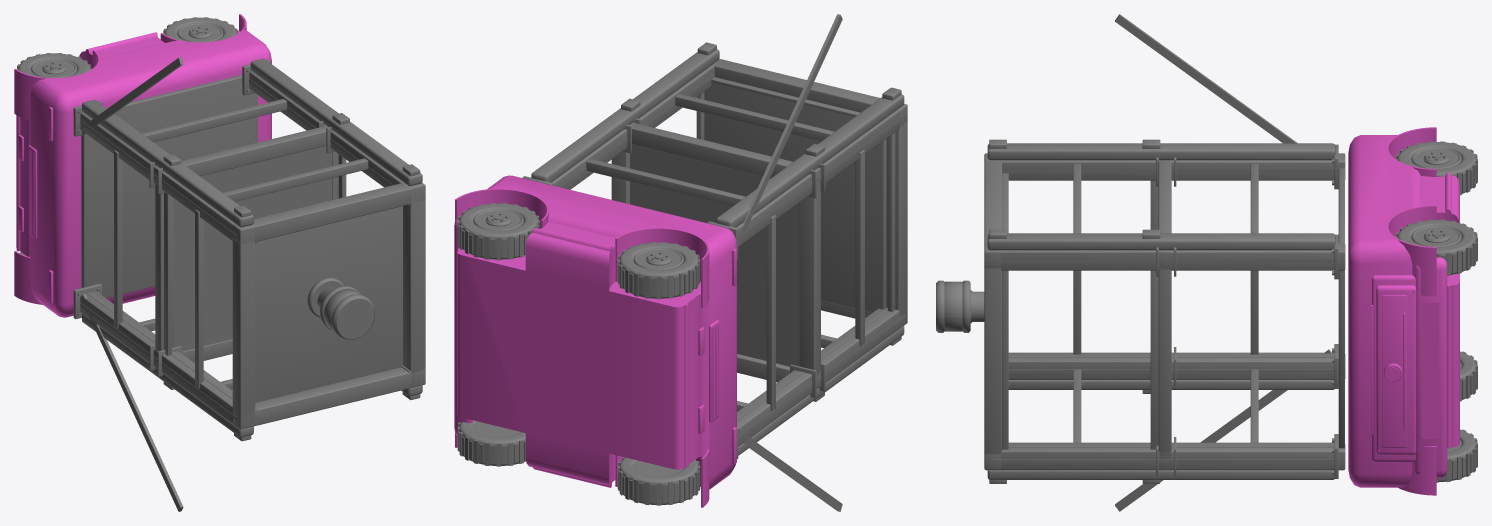
The picture shows the model from 3 angles, left to right: view 1: azimuth 30°, elevation 25°; view 2: azimuth 150°, elevation 25°; view 3: azimuth 270°, elevation 25°; orthographic projection. The views are drawn at different scales.
Visible parts, largest first — view 1: AX_2_Shelf, AX_2_Body, AX_2_Top_lidar, AX_2_Tire_02, AX_2_Tire_04; view 2: AX_2_Shelf, AX_2_Body, AX_2_Tire_04, AX_2_Tire_02, AX_2_Tire_03, AX_2_Tire_01; view 3: AX_2_Shelf, AX_2_Body, AX_2_Tire_02, AX_2_Tire_04, AX_2_Top_lidar, AX_2_Tire_01, AX_2_Tire_03.
Part boxes in pixels (x1,y1,x2,y2): AX_2_Shelf: [73, 57, 425, 511]; AX_2_Body: [14, 14, 271, 317]; AX_2_Top_lidar: [307, 277, 375, 340]; AX_2_Tire_02: [163, 17, 237, 42]; AX_2_Tire_04: [17, 53, 91, 77]; AX_2_Shelf: [522, 14, 907, 511]; AX_2_Body: [454, 175, 736, 507]; AX_2_Tire_04: [617, 242, 700, 299]; AX_2_Tire_02: [457, 203, 539, 260]; AX_2_Tire_03: [617, 457, 700, 505]; AX_2_Tire_01: [457, 420, 525, 466]; AX_2_Shelf: [984, 14, 1345, 511]; AX_2_Body: [1348, 127, 1459, 495]; AX_2_Tire_02: [1396, 219, 1477, 275]; AX_2_Tire_04: [1396, 141, 1477, 195]; AX_2_Top_lidar: [936, 280, 984, 332]; AX_2_Tire_01: [1436, 429, 1477, 482]; AX_2_Tire_03: [1460, 351, 1477, 401].
Size of the model in its own units: 1058 by 1993 by 1972.
